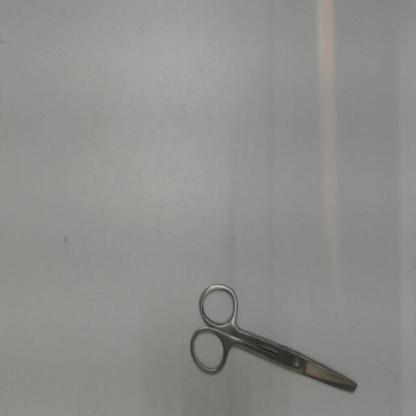Dressing Scissors: (180, 273, 364, 402)
